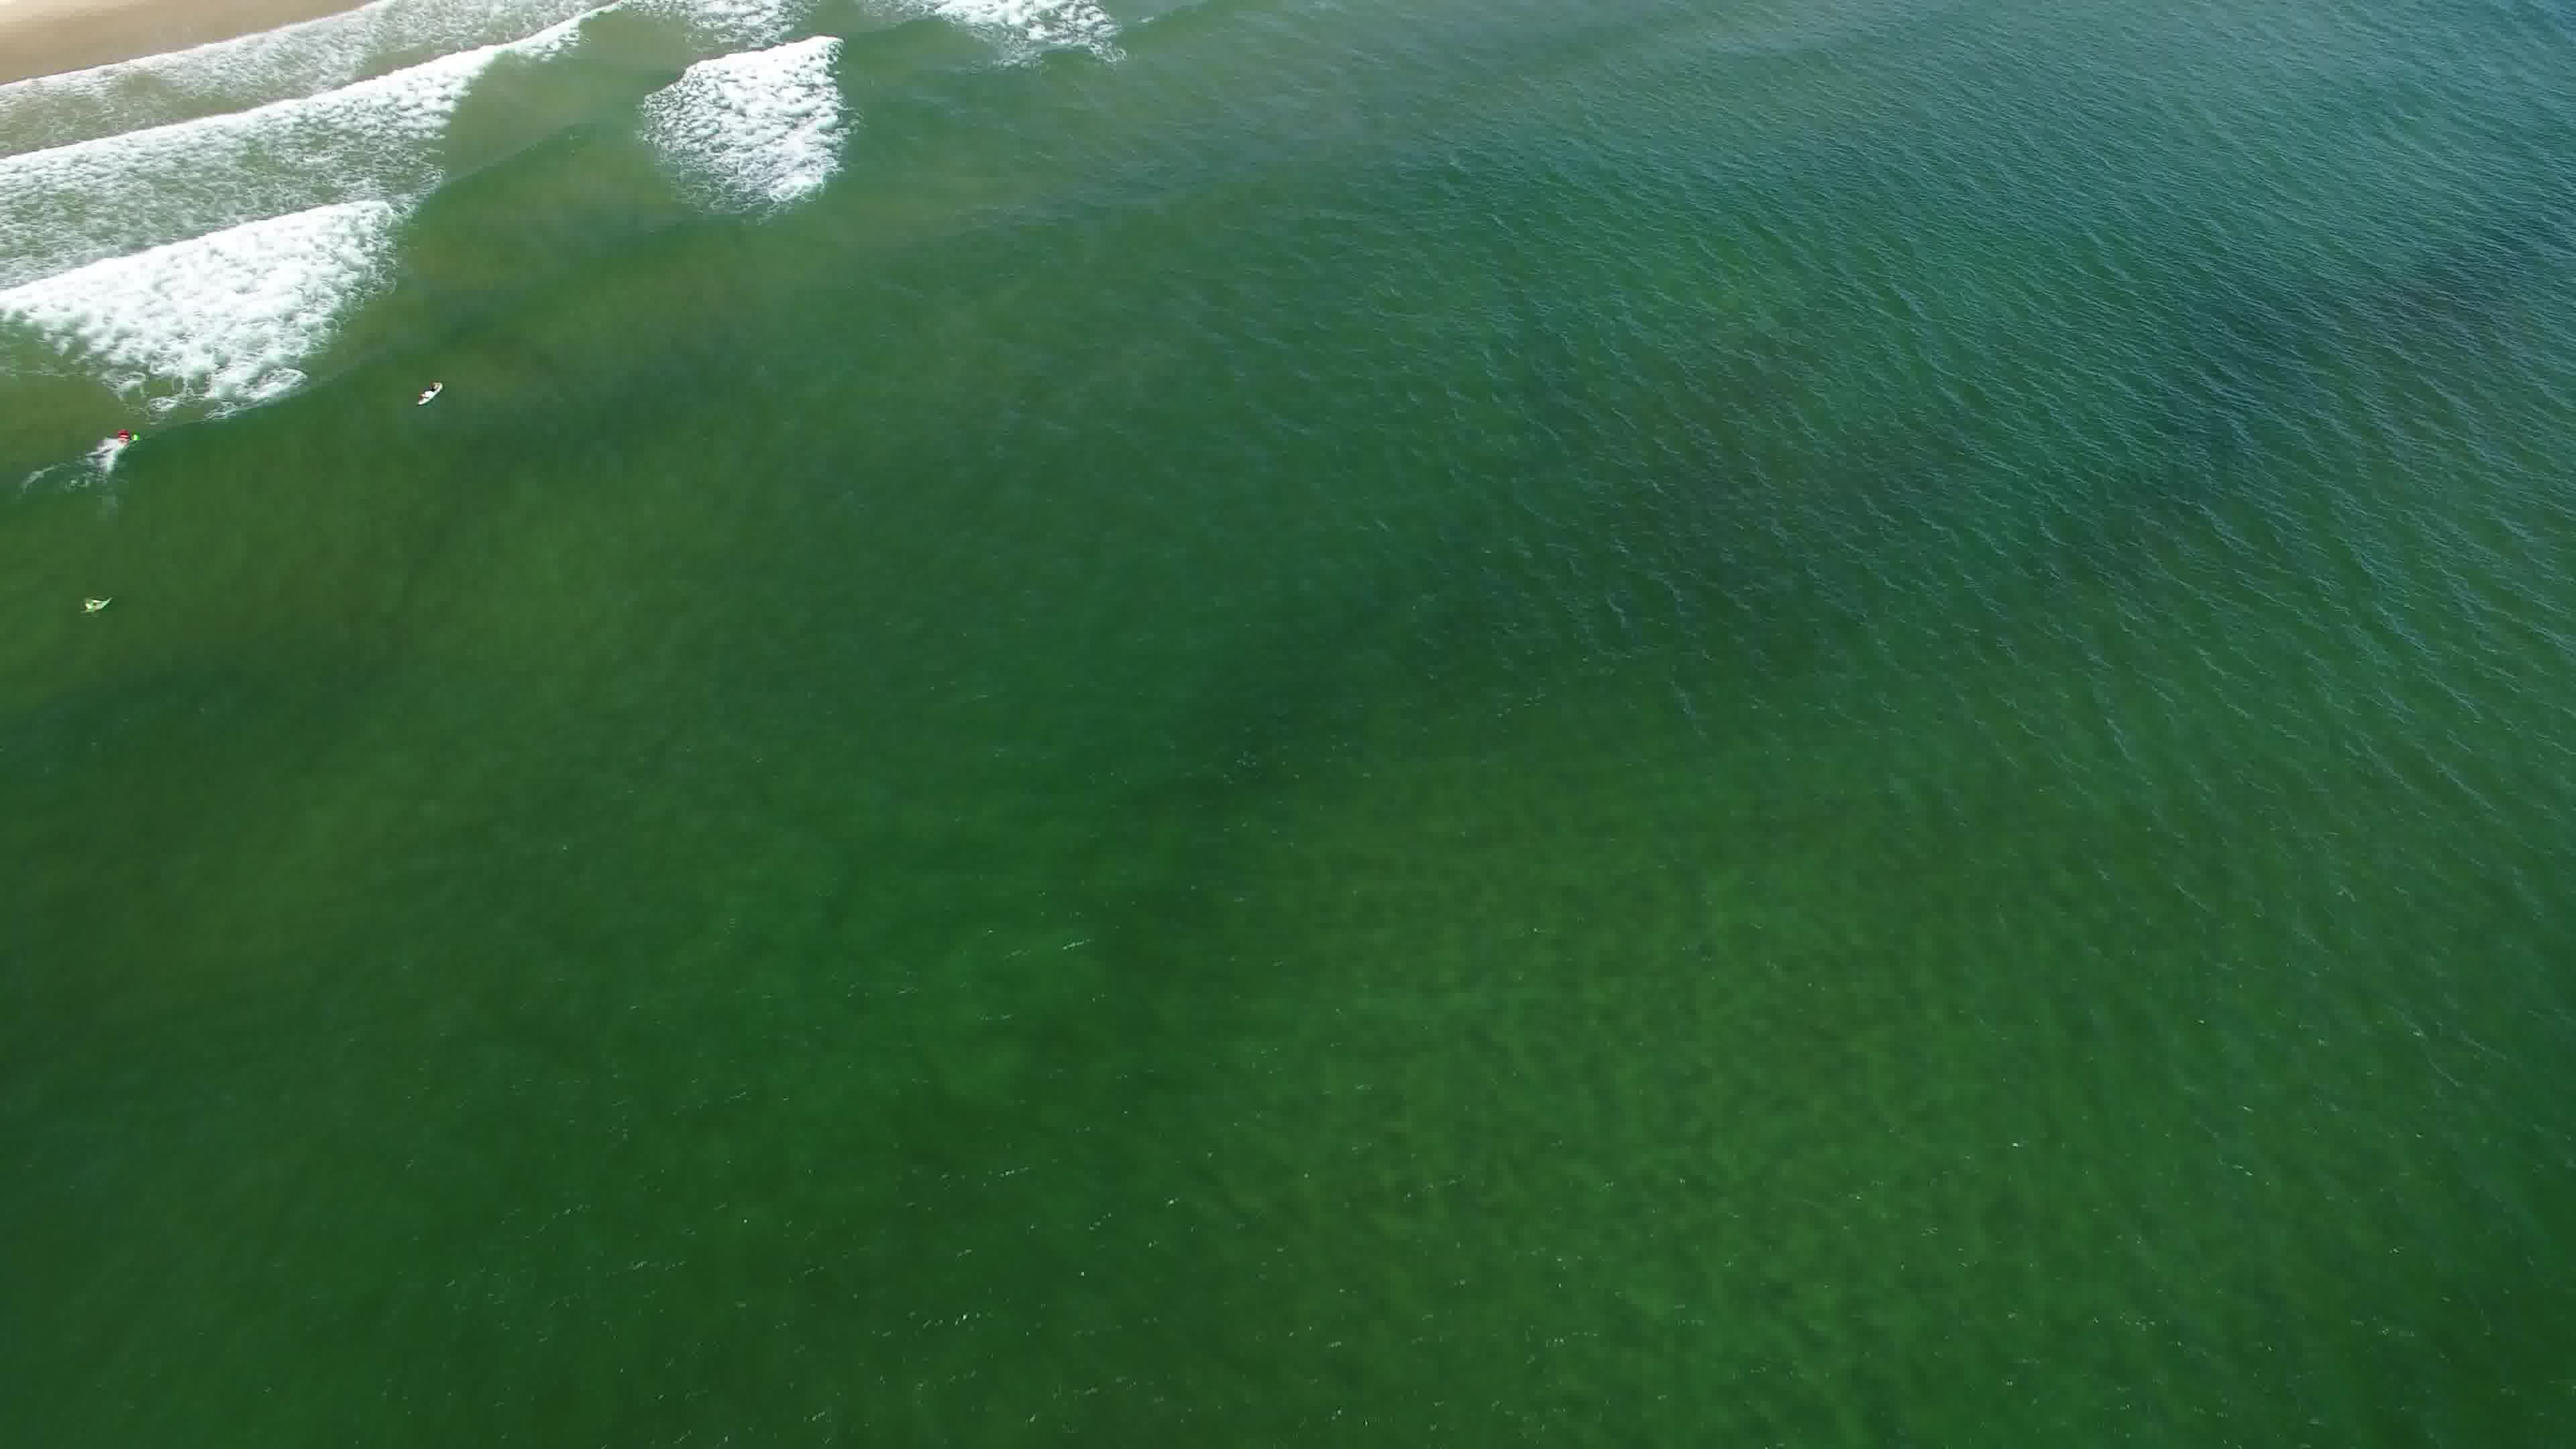surfer: (410, 372, 449, 412), (78, 591, 126, 621), (110, 426, 152, 453)
